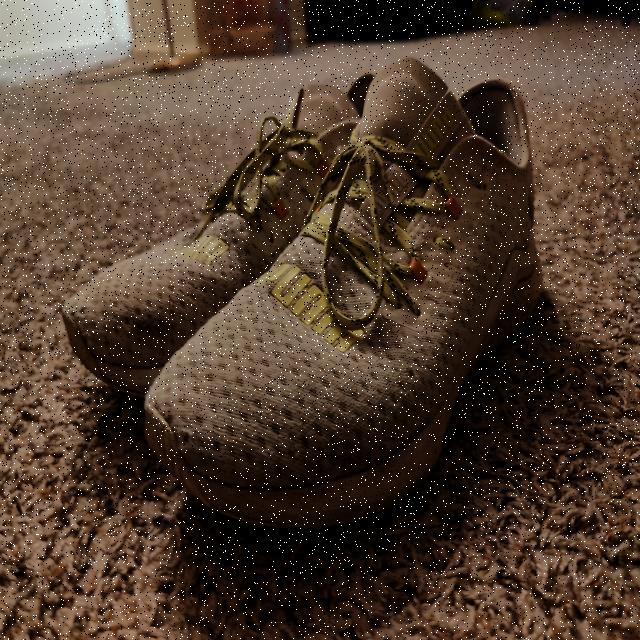white shoes: (76, 72, 540, 520)
